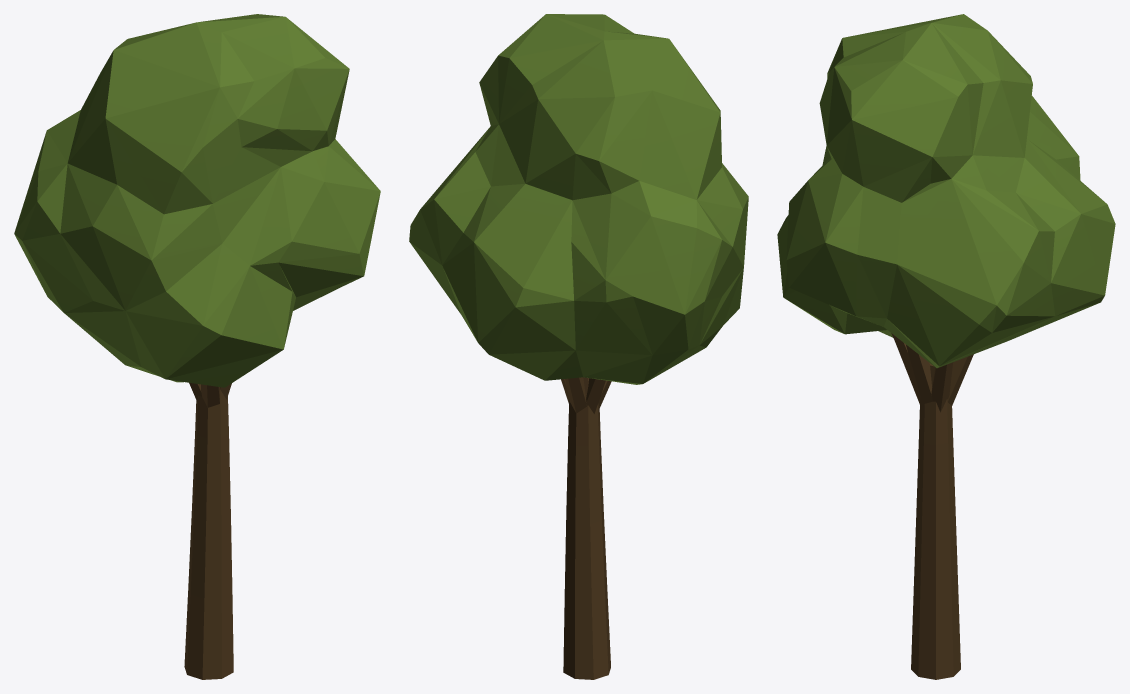
File: ChestnutA.glb
3 views of the same model, side by side, from view 1: azimuth 30°, elevation 25°; view 2: azimuth 150°, elevation 25°; view 3: azimuth 270°, elevation 25° (orthographic). The views are drawn at different scales.
Visible parts, largest first — view 1: ChestnutA_LOD0; view 2: ChestnutA_LOD0; view 3: ChestnutA_LOD0.
Part boxes in pixels (x1,y1,x2,y2): ChestnutA_LOD0: (14, 14, 380, 679); ChestnutA_LOD0: (409, 14, 748, 679); ChestnutA_LOD0: (777, 14, 1115, 679).
Size of what is drawn, in the model's own units: 3.51 by 7.11 by 3.41.
